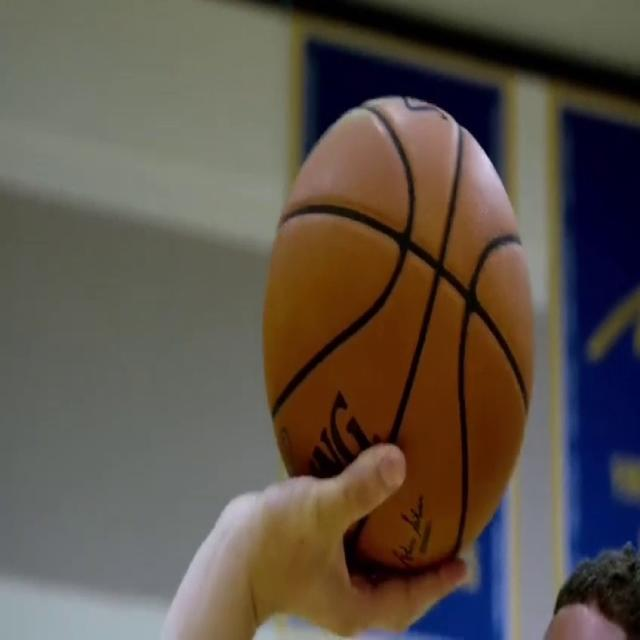ball: (261, 94, 537, 584)
